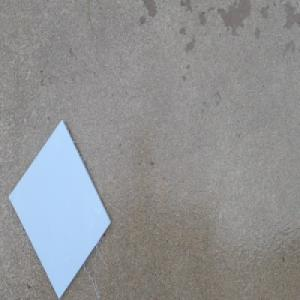PaintChip: (6, 120, 111, 298)
